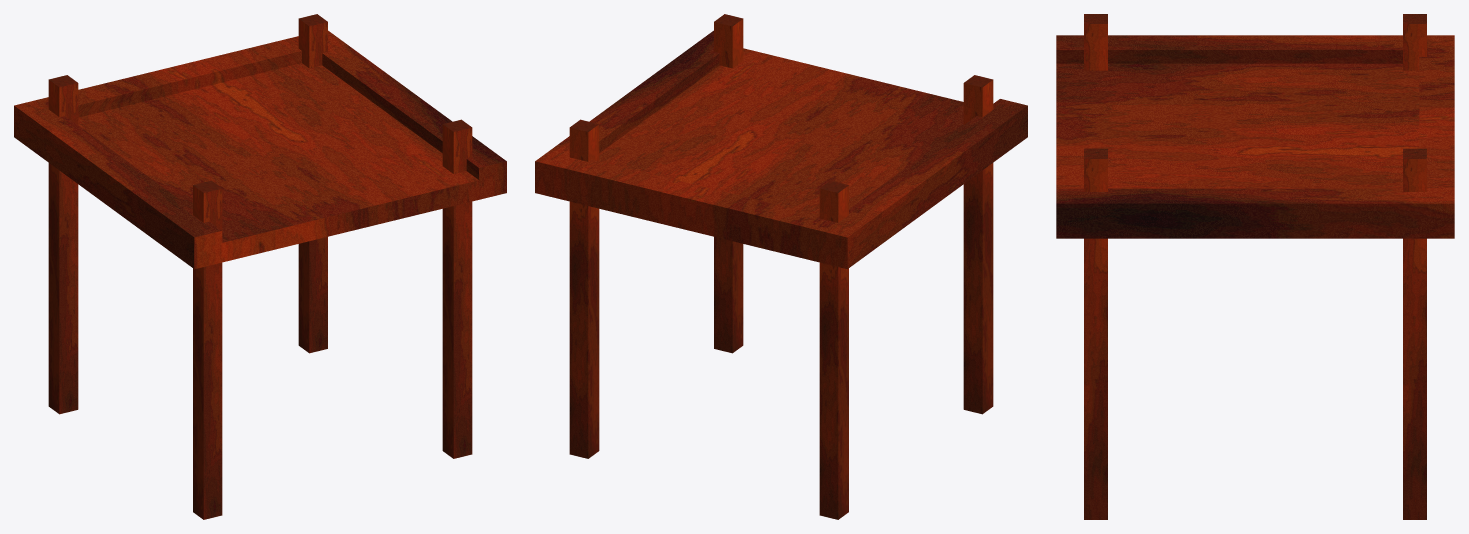
File: Pier_end_01_unity.fbx
3 views of the same model, side by side, from view 1: azimuth 30°, elevation 25°; view 2: azimuth 150°, elevation 25°; view 3: azimuth 270°, elevation 25° (orthographic). The views are drawn at different scales.
Visible parts, largest first — view 1: Pier_end; view 2: Pier_end; view 3: Pier_end.
Boxes of the visible parts, left/top/right/bottom form: Pier_end: left=14, top=14, right=506, bottom=519; Pier_end: left=535, top=14, right=1027, bottom=519; Pier_end: left=1056, top=14, right=1454, bottom=519.
Size of the model in its own units: 5 by 5 by 5.
